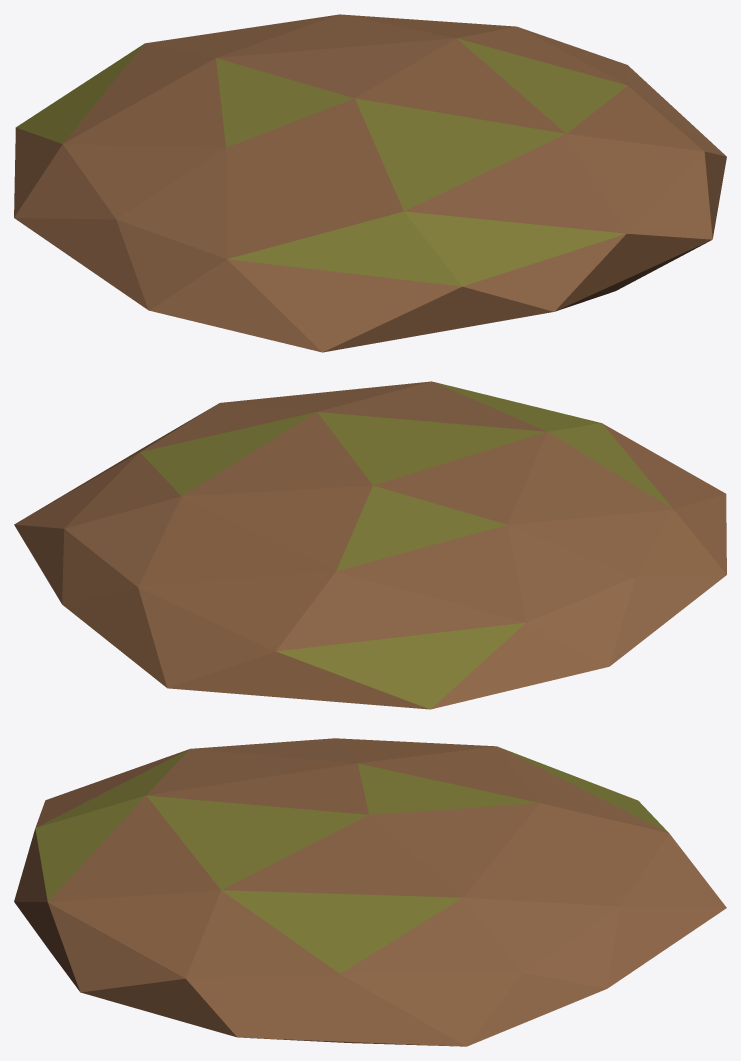
Rendered from SM_Mound_B.fbx.
3 renders of one model, top to bottom at view 1: azimuth 30°, elevation 25°; view 2: azimuth 150°, elevation 25°; view 3: azimuth 270°, elevation 25°, orthographic. The views are drawn at different scales.
Parts seen in each view (by area): view 1: SM_Mound_B; view 2: SM_Mound_B; view 3: SM_Mound_B.
Part boxes in pixels (x1,y1,x2,y2): SM_Mound_B: (14, 14, 726, 352); SM_Mound_B: (14, 381, 726, 709); SM_Mound_B: (14, 738, 726, 1046).
Size of the model in its own units: 6.65 by 6.9 by 0.9775.
